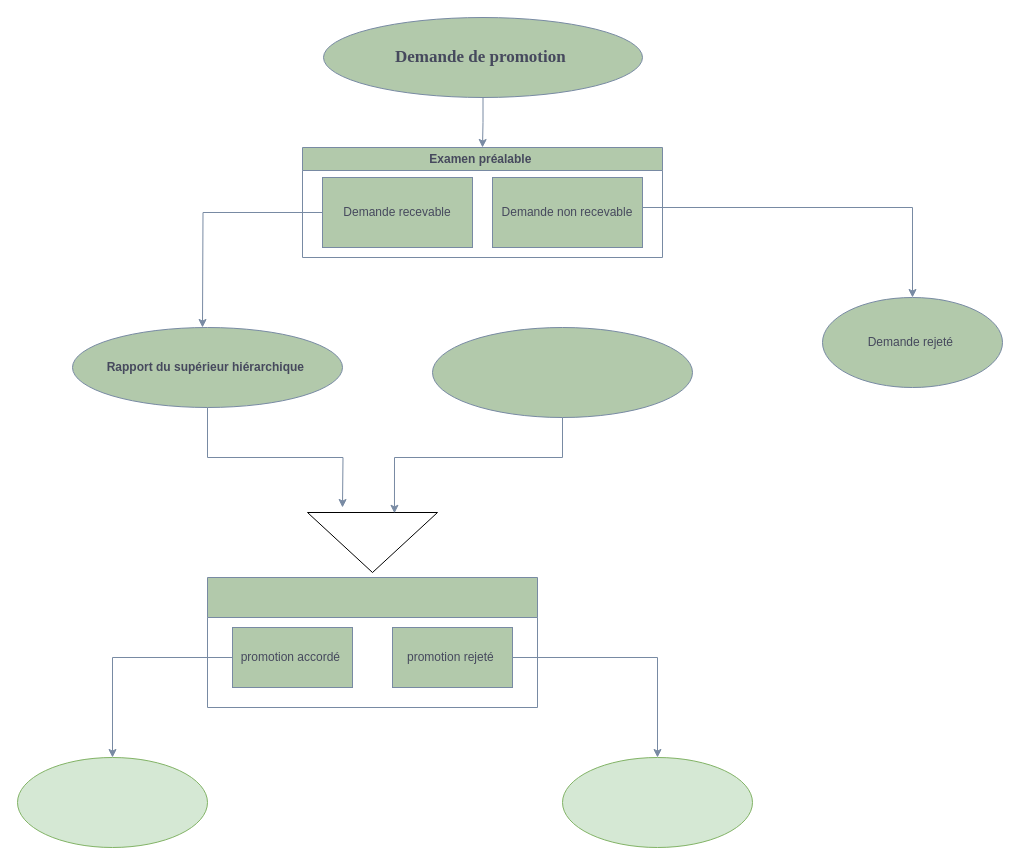
Some shapes in this 1020 by 865 pixel diagram are drawn without their labels. Here are the shapes that lost their labels. From the top down, the box of each, then its label:
(432, 326, 692, 418): Examen du dossier par l'autorité
(206, 576, 538, 708): Décision
(16, 756, 208, 848): Demande accepté
(562, 756, 752, 848): Demande refusé
